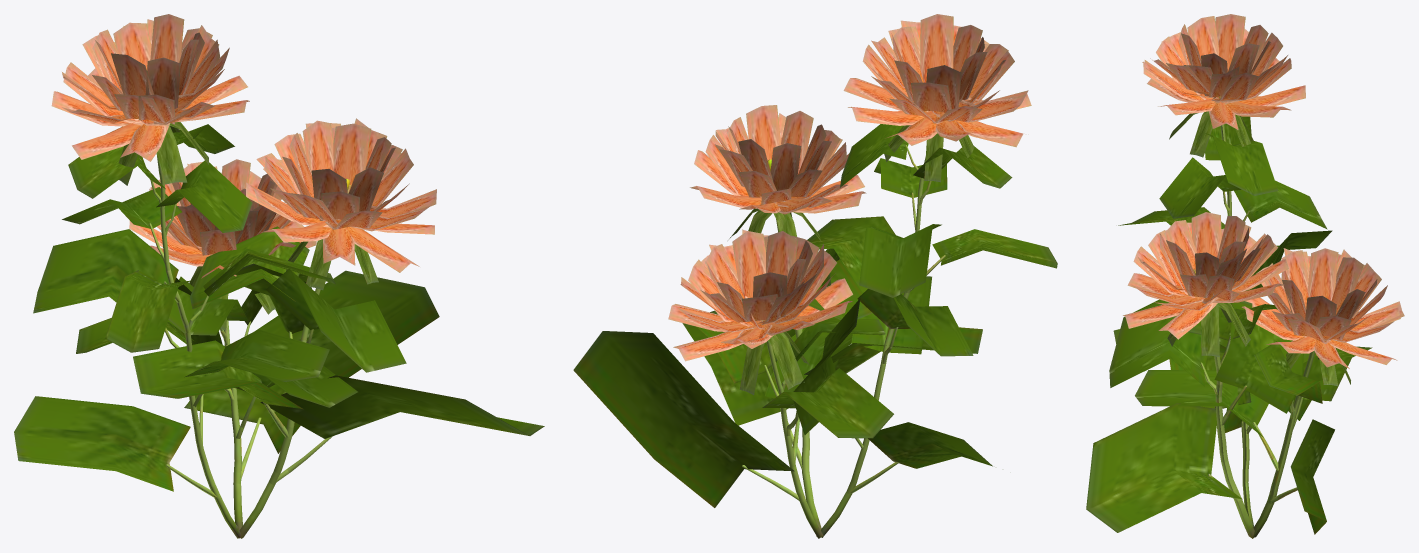
Rendered from orange_flower2.FBX.
The picture shows the model from 3 angles, left to right: view 1: azimuth 30°, elevation 25°; view 2: azimuth 150°, elevation 25°; view 3: azimuth 270°, elevation 25°; orthographic projection. The views are drawn at different scales.
Visible parts, largest first — view 1: Orange_S; view 2: Orange_S; view 3: Orange_S.
Part boxes in pixels (x1,y1,x2,y2): Orange_S: (14, 14, 544, 538); Orange_S: (573, 14, 1057, 538); Orange_S: (1086, 14, 1404, 538).
Bounding box in the file's own units: 0.3883 × 0.456 × 0.2828.
